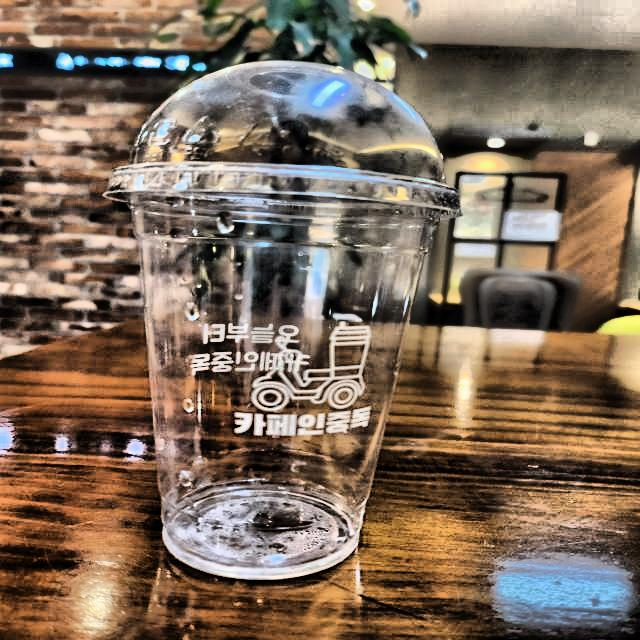plastic cup: (97, 42, 474, 599)
